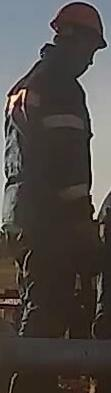gloves: (69, 219, 106, 276)
helmet: (49, 2, 107, 49)
vest: (6, 68, 88, 255)
